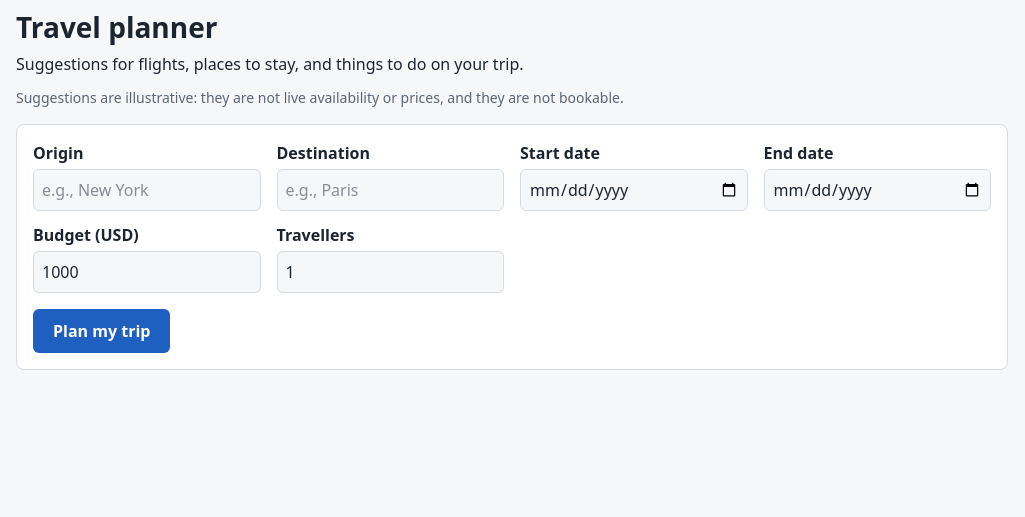
Test: TripPlanner › shows the unavailable message after an error answer
Type "Manila" into the field labelled "Origin" at x=147, y=190, box [33,169,260,211]
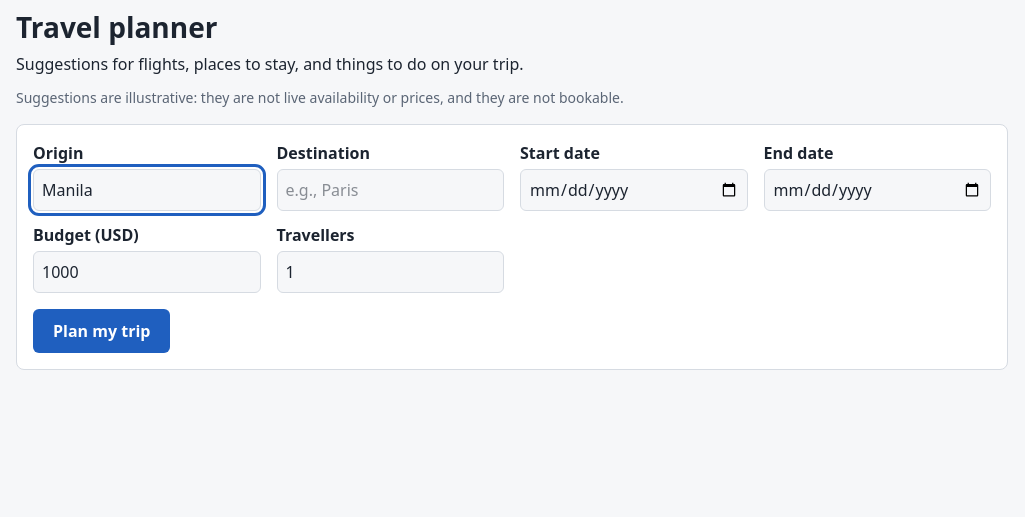
Type "Tokyo" into the field labelled "Destination" at x=390, y=190, box [276,169,504,211]
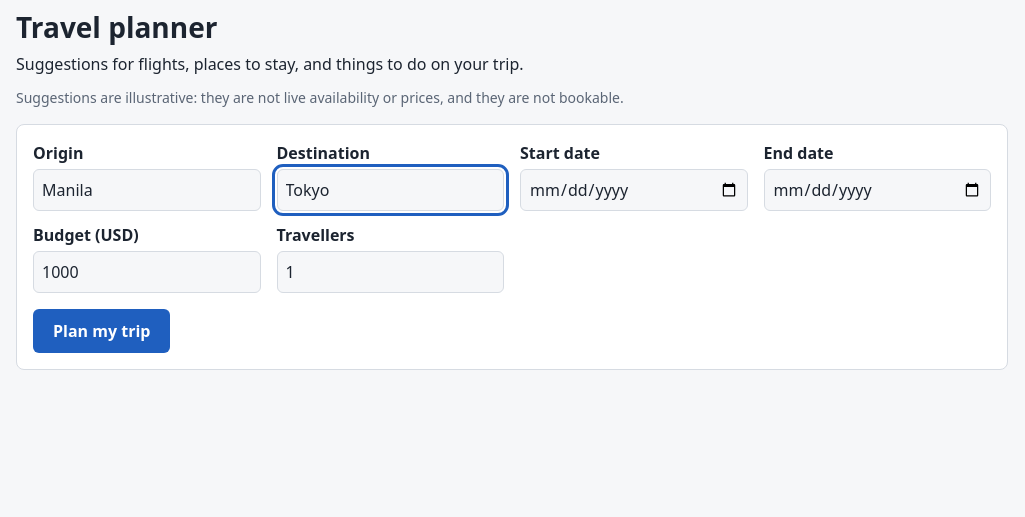
Type "2026-12-01" into the date field labelled "Start date" at x=634, y=190, box [520,169,748,211]
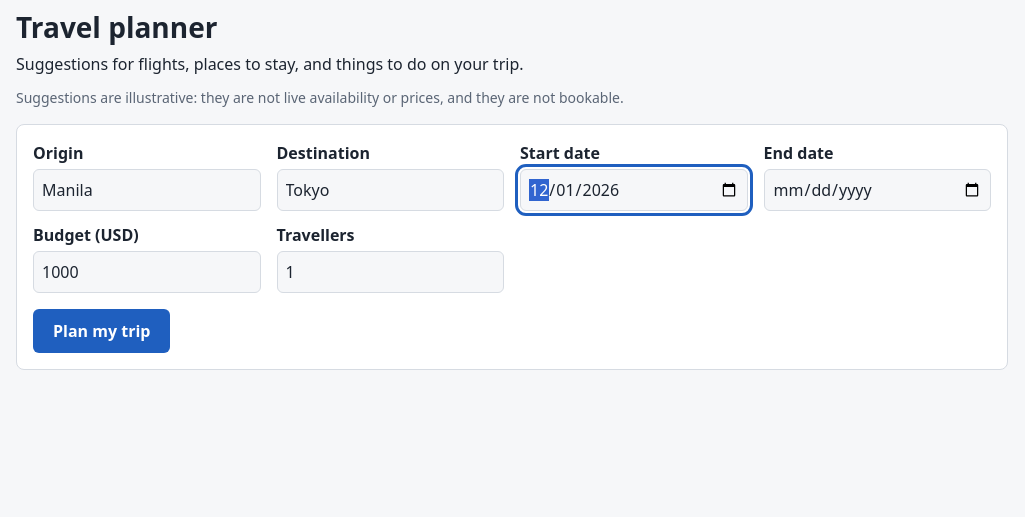
Type "2026-12-06" into the date field labelled "End date" at x=877, y=190, box [764,169,991,211]
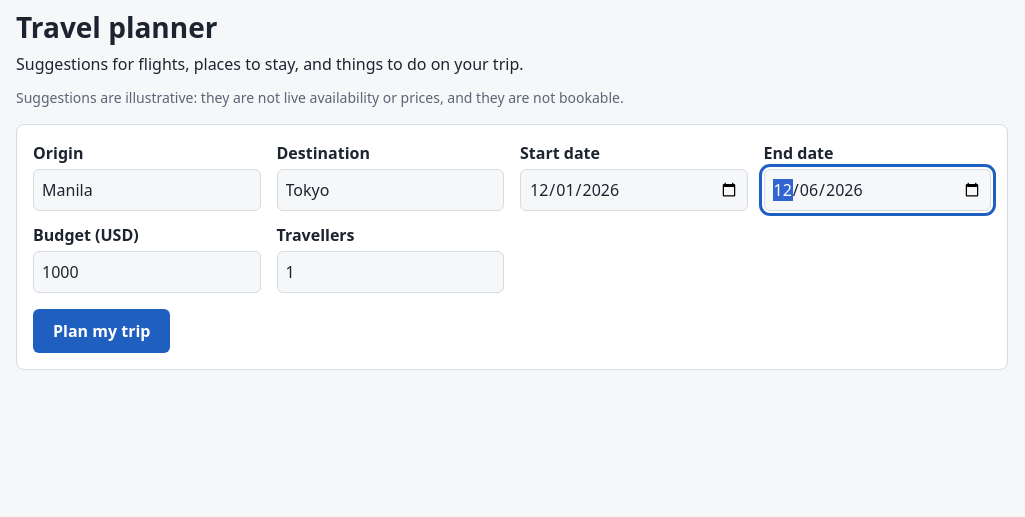
Click the button "Plan my trip" at x=102, y=331, box [33,309,170,353]
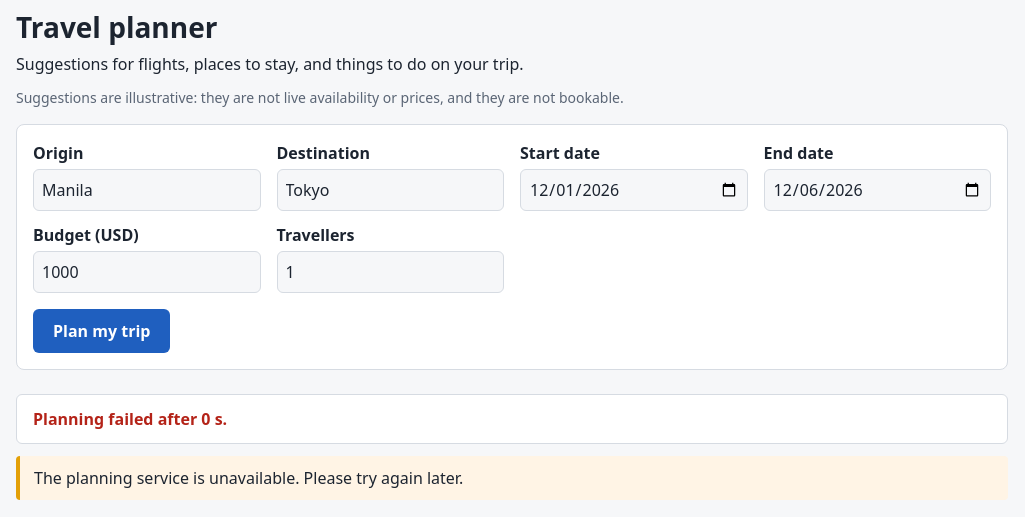
Expected: the text "The planning service is unavailable. Please try again later." is shown, [16,456,1008,500]
